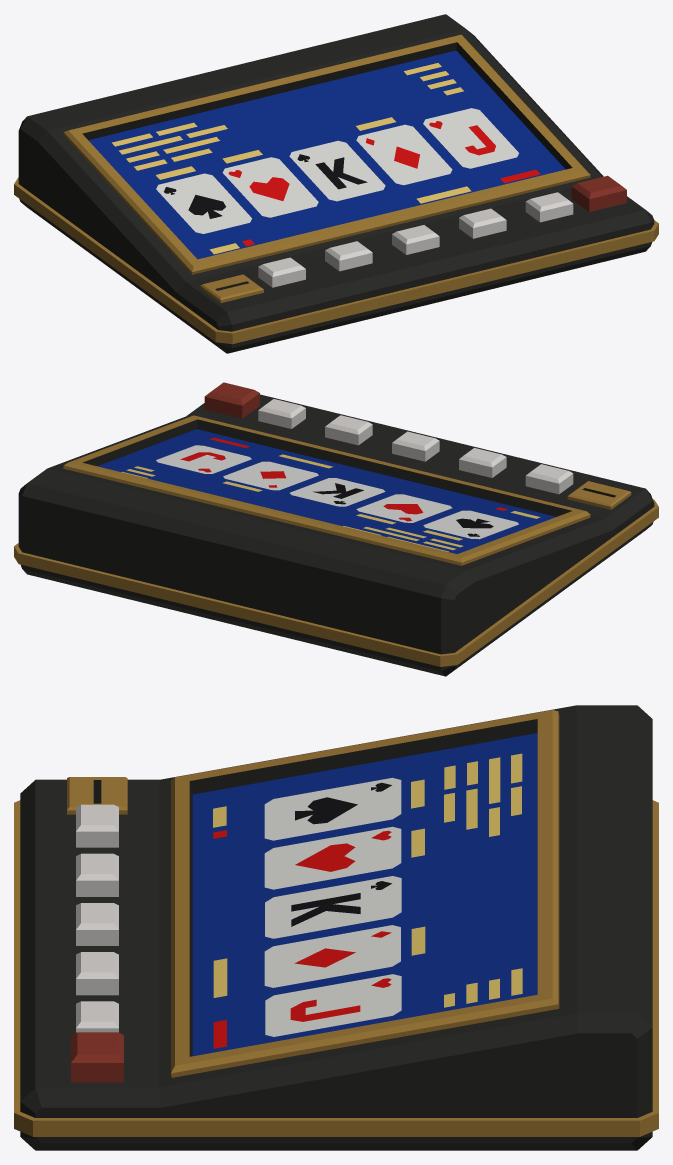
The model's file is bar-top-video-poker-d53867.glb.
The picture shows the model from 3 angles, top to bottom: view 1: azimuth 30°, elevation 25°; view 2: azimuth 150°, elevation 25°; view 3: azimuth 270°, elevation 25°; orthographic projection. The views are drawn at different scales.
Visible parts, largest first — view 1: housing, deal-cap, hold-5-cap, hold-1-cap, hold-2-cap, hold-4-cap, hold-3-cap; view 2: housing, deal-cap, hold-1-cap, hold-4-cap, hold-5-cap, hold-3-cap, hold-2-cap; view 3: housing, deal-cap, hold-4-cap, hold-1-cap, hold-2-cap, hold-3-cap, hold-5-cap.
Part boxes in pixels (x1,y1,x2,y2): housing: [14, 14, 658, 353]; deal-cap: [571, 175, 626, 211]; hold-5-cap: [525, 192, 573, 222]; hold-1-cap: [258, 257, 305, 287]; hold-2-cap: [325, 241, 372, 271]; hold-4-cap: [459, 208, 506, 238]; hold-3-cap: [392, 225, 439, 254]; housing: [14, 394, 658, 676]; deal-cap: [204, 382, 259, 418]; hold-1-cap: [525, 464, 573, 494]; hold-4-cap: [325, 415, 372, 445]; hold-5-cap: [258, 399, 305, 428]; hold-3-cap: [392, 431, 439, 461]; hold-2-cap: [459, 448, 506, 477]; housing: [14, 705, 658, 1150]; deal-cap: [71, 1032, 123, 1082]; hold-4-cap: [76, 952, 118, 995]; hold-1-cap: [76, 804, 118, 847]; hold-2-cap: [76, 853, 118, 896]; hold-3-cap: [76, 903, 118, 945]; hold-5-cap: [76, 1001, 118, 1032].
Size of the model in its own units: 0.61 by 0.1244 by 0.51.
